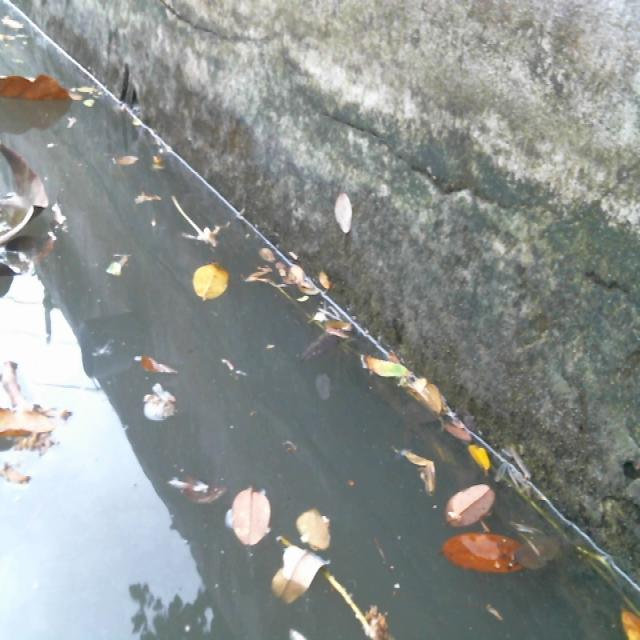Big-leaf: (0, 145, 69, 302), (0, 358, 65, 471), (0, 66, 81, 112)
Small-leaf: (441, 531, 547, 581), (228, 467, 275, 562), (272, 541, 333, 608), (387, 371, 458, 425), (291, 492, 349, 550), (167, 468, 230, 518), (396, 442, 437, 508), (445, 483, 504, 528), (361, 355, 420, 389), (123, 348, 184, 379), (192, 265, 235, 305), (110, 243, 148, 282), (611, 591, 640, 640), (471, 438, 502, 479), (129, 185, 172, 211), (316, 255, 342, 296), (115, 149, 148, 172)
